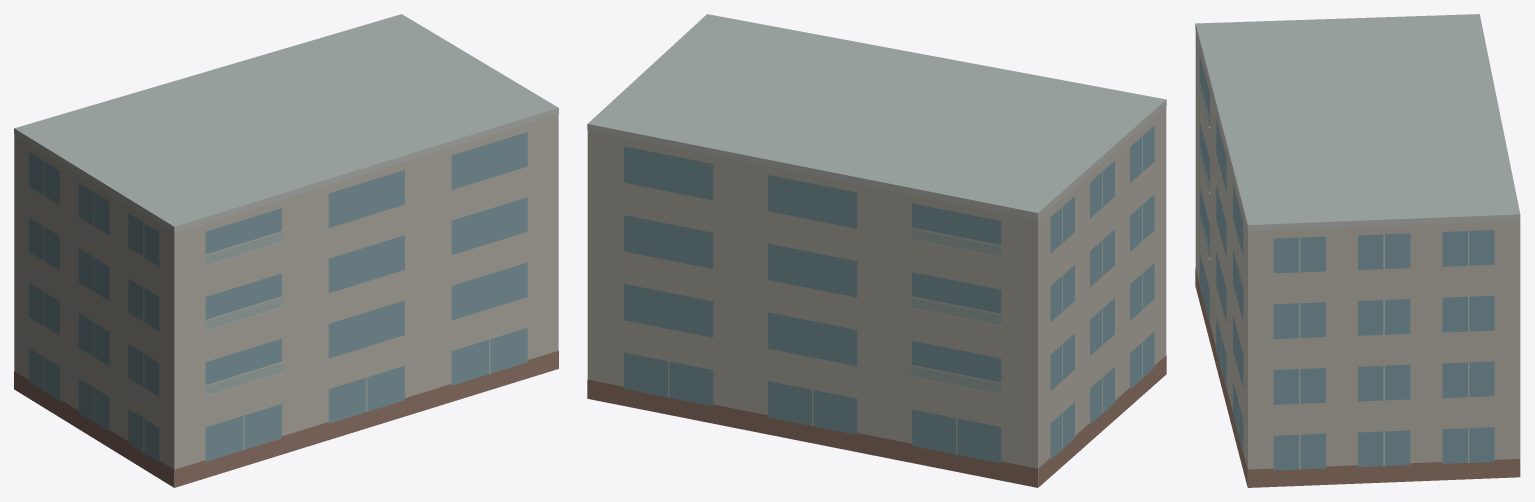
File: survey-upis-32759648.glb
The picture shows the model from 3 angles, left to right: view 1: azimuth 30°, elevation 25°; view 2: azimuth 150°, elevation 25°; view 3: azimuth 270°, elevation 25°; orthographic projection. The views are drawn at different scales.
Parts seen in each view (by area): view 1: survey-upis-32759648.tmp; view 2: survey-upis-32759648.tmp; view 3: survey-upis-32759648.tmp.
Boxes of the visible parts, bbox=[...] form: survey-upis-32759648.tmp: bbox=[14, 14, 558, 487]; survey-upis-32759648.tmp: bbox=[587, 14, 1166, 487]; survey-upis-32759648.tmp: bbox=[1195, 14, 1520, 487].
Bounding box in the file's own units: 18.09 × 10.5 × 11.77.
